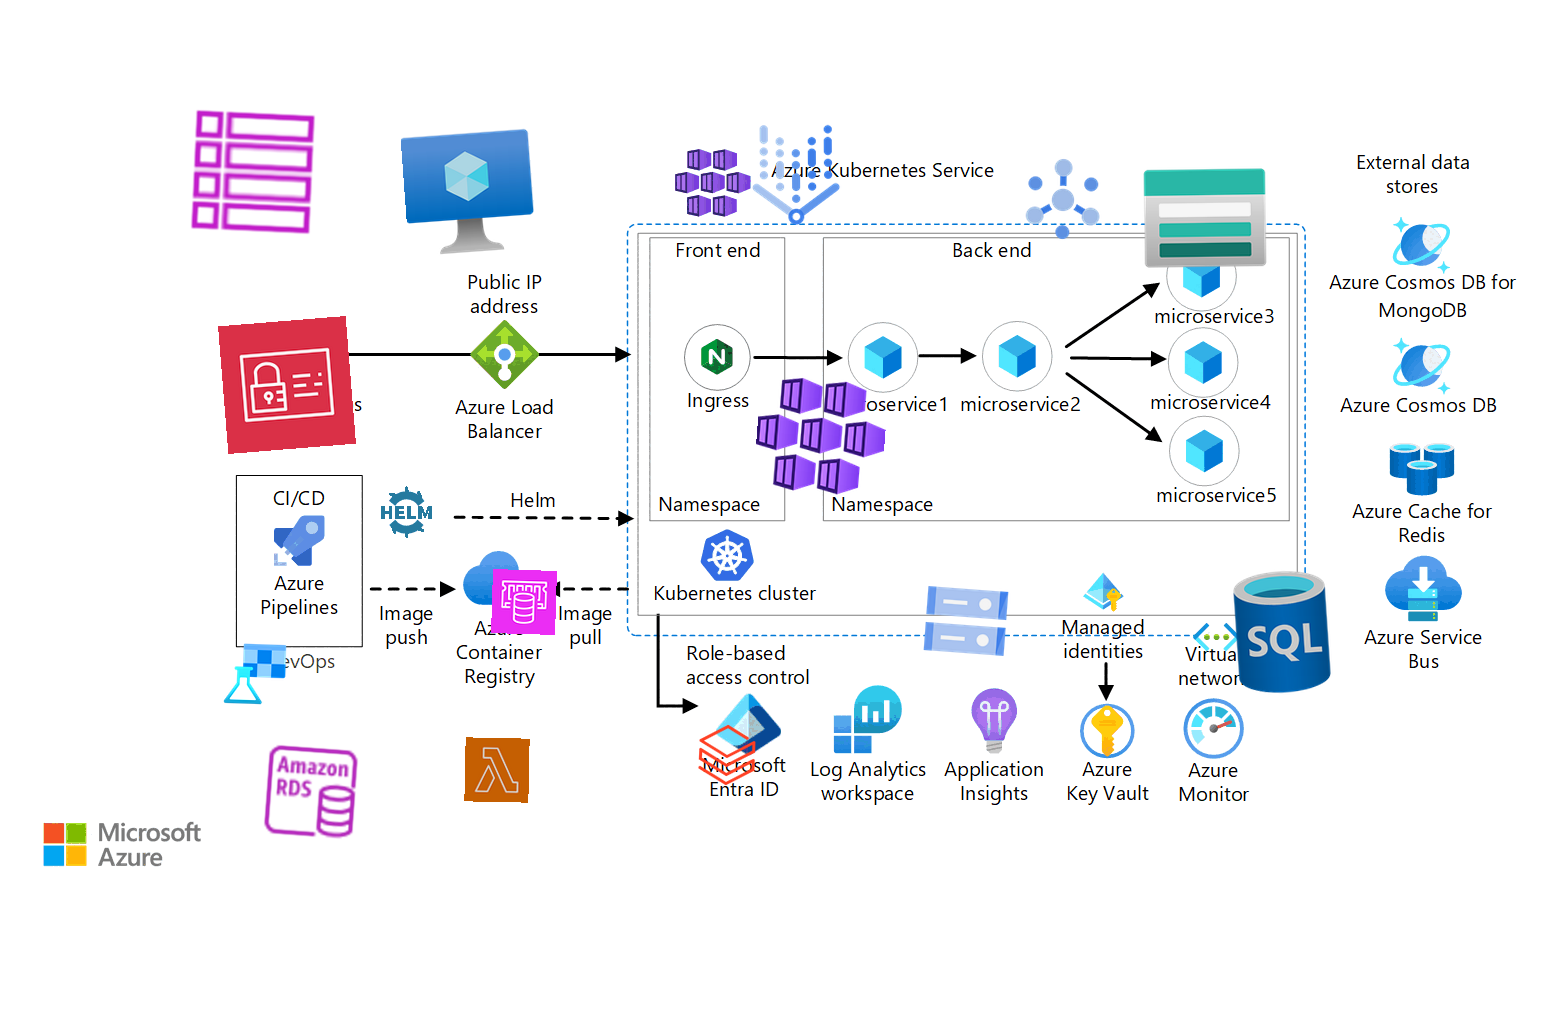aws_amazon_elasticache: (492, 569, 557, 635)
aws_aurora_amazon_rds_instance: (259, 740, 363, 844)
aws_dynamodb_table: (186, 105, 320, 240)
aws_identity_and_access_management: (218, 316, 356, 454)
aws_lambda: (464, 737, 530, 803)
azure_databricks: (693, 721, 761, 789)
azure_kubernetes_services: (752, 366, 890, 504)
azure_machine_learning_studio_workspaces: (221, 640, 289, 708)
azure_sql_database: (1213, 563, 1351, 701)
azure_storage_accounts: (1140, 152, 1269, 283)
azure_virtual_machine: (400, 127, 538, 265)
gcp_cloud_storage: (914, 569, 1019, 673)
gcp_pubsub: (1014, 150, 1112, 248)
gcp_vertex_ai: (731, 110, 860, 240)
